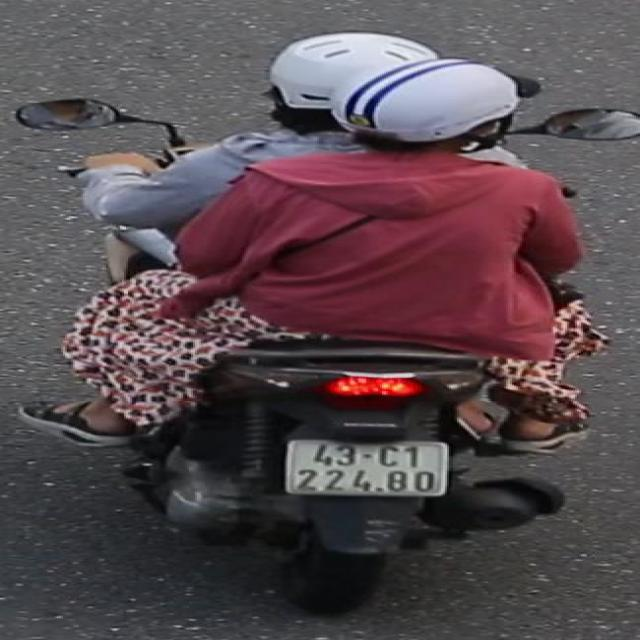LP: (278, 435, 455, 503)
helmet: (338, 57, 534, 173)
